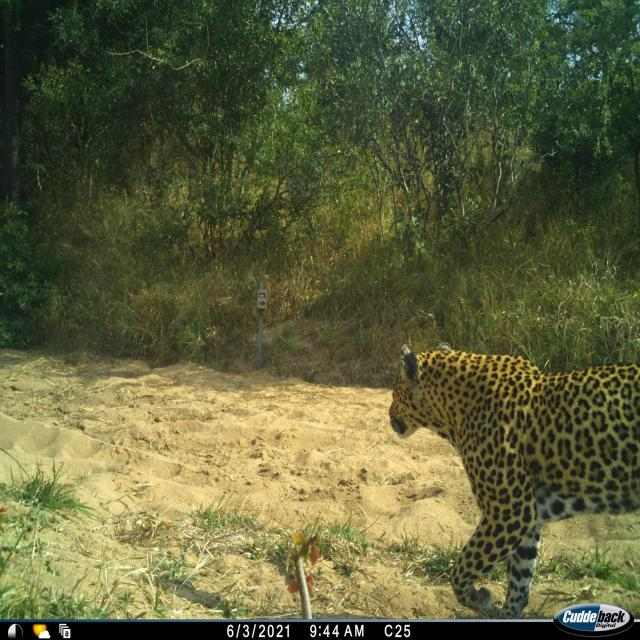Leopard: (380, 324, 632, 616)
